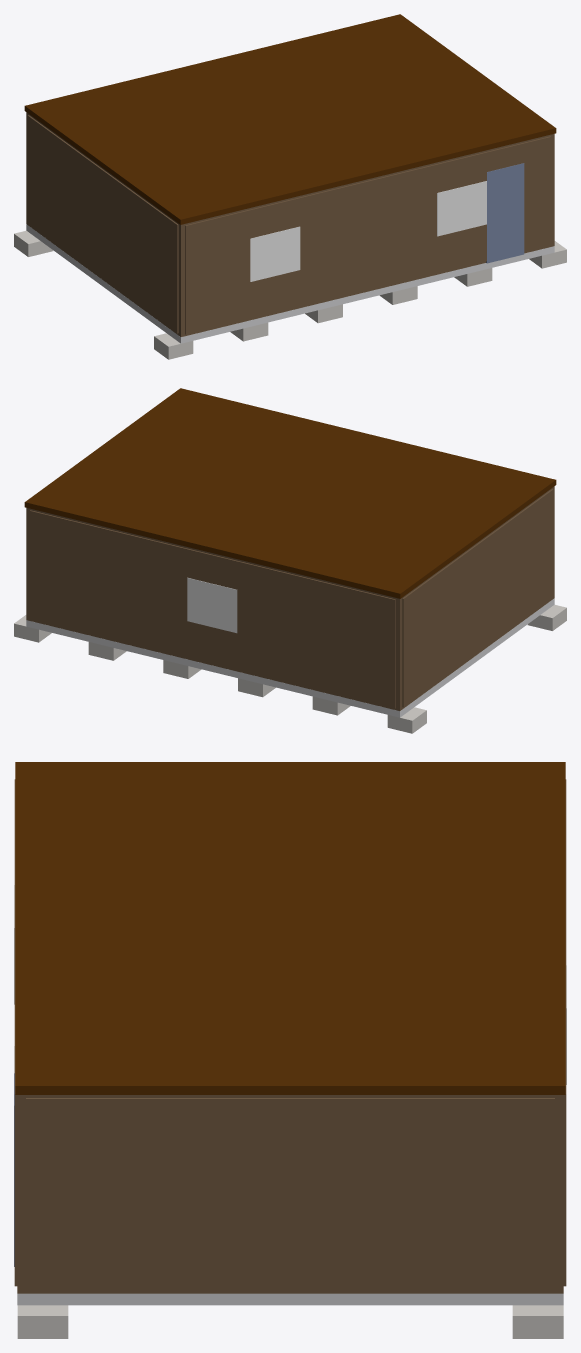
File: Studio-30-Base-WengeWood-LOD2.glb
3 renders of one model, top to bottom at view 1: azimuth 30°, elevation 25°; view 2: azimuth 150°, elevation 25°; view 3: azimuth 270°, elevation 25°, orthographic. The views are drawn at different scales.
Parts seen in each view (by area): view 1: RoofMain, ExteriorPanelsStandard, WindowsStandard, BaseFrame, FoundationBlocks, ExteriorShell, EntryDoor; view 2: RoofMain, ExteriorPanelsStandard, BaseFrame, ExteriorShell, FoundationBlocks, WindowsStandard; view 3: RoofMain, ExteriorPanelsStandard, BaseFrame, ExteriorShell, FoundationBlocks.
Boxes of the visible parts, x1=… form: RoofMain: x1=24, y1=14, x2=556, y2=224; ExteriorPanelsStandard: x1=27, y1=115, x2=550, y2=334; WindowsStandard: x1=250, y1=181, x2=486, y2=281; BaseFrame: x1=26, y1=224, x2=554, y2=343; FoundationBlocks: x1=14, y1=230, x2=566, y2=359; ExteriorShell: x1=26, y1=112, x2=554, y2=336; EntryDoor: x1=486, y1=163, x2=524, y2=263; RoofMain: x1=24, y1=388, x2=556, y2=598; ExteriorPanelsStandard: x1=30, y1=489, x2=553, y2=708; BaseFrame: x1=26, y1=598, x2=554, y2=717; ExteriorShell: x1=26, y1=486, x2=554, y2=710; FoundationBlocks: x1=14, y1=604, x2=566, y2=733; WindowsStandard: x1=187, y1=577, x2=237, y2=633; RoofMain: x1=15, y1=762, x2=565, y2=1094; ExteriorPanelsStandard: x1=14, y1=779, x2=566, y2=1290; BaseFrame: x1=17, y1=1293, x2=563, y2=1305; ExteriorShell: x1=17, y1=1095, x2=563, y2=1293; FoundationBlocks: x1=17, y1=1305, x2=563, y2=1338.
Size of the model in its own units: 9.6 by 3.17 by 6.53.
